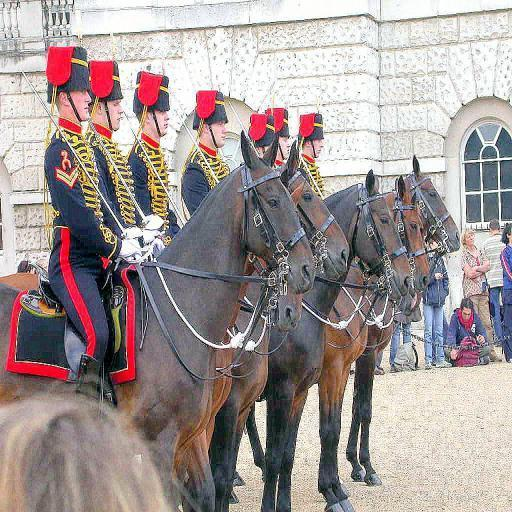horse: (0, 127, 462, 510)
